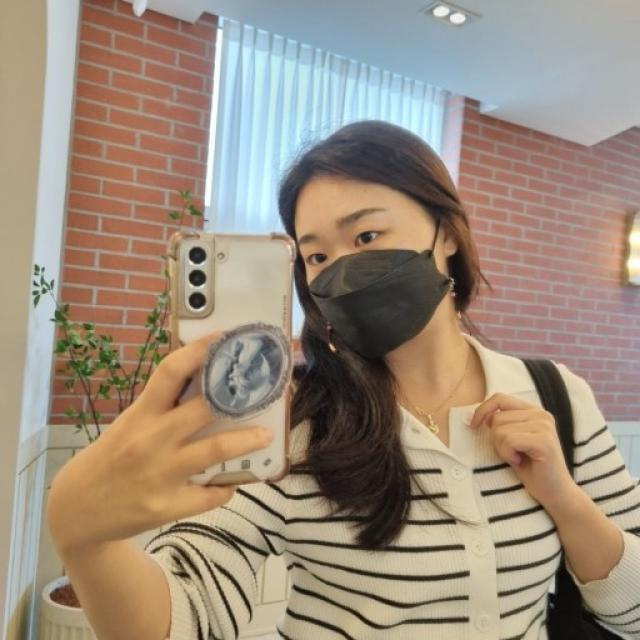mobile: (162, 224, 295, 496)
